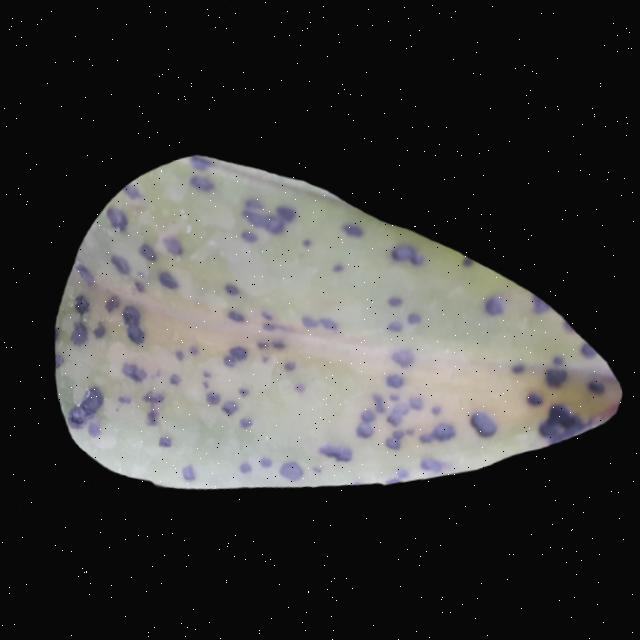mite: (536, 402, 586, 446), (120, 303, 149, 348), (389, 241, 427, 274), (469, 409, 502, 444), (104, 204, 132, 236), (220, 343, 252, 371), (543, 367, 572, 394), (157, 268, 181, 293), (72, 292, 93, 318), (585, 379, 609, 401), (525, 392, 547, 412)
spots: (28, 86, 630, 544)
